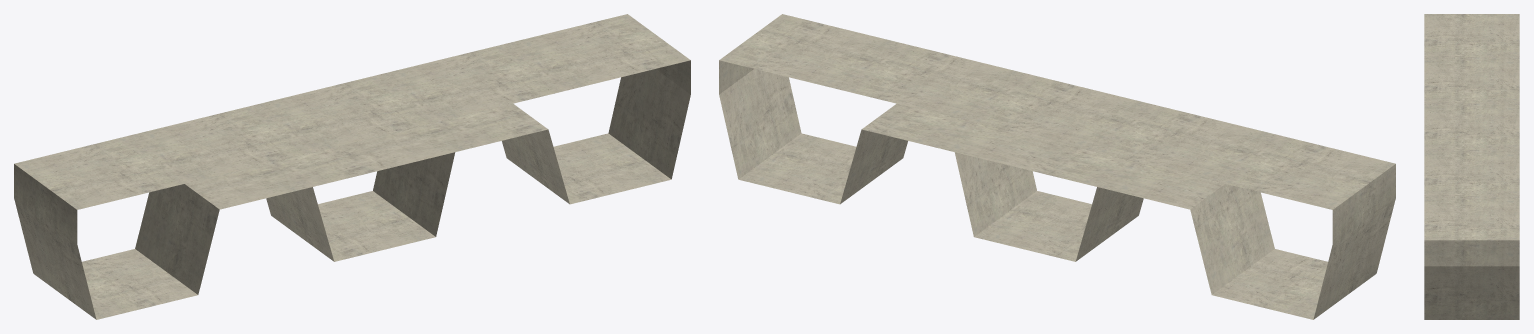
Rendered from BridgeBase3-28w-5l-5d.FBX.
3 views of the same model, side by side, from view 1: azimuth 30°, elevation 25°; view 2: azimuth 150°, elevation 25°; view 3: azimuth 270°, elevation 25° (orthographic). The views are drawn at different scales.
Visible parts, largest first — view 1: BridgeBase3-28w-5l-5d; view 2: BridgeBase3-28w-5l-5d; view 3: BridgeBase3-28w-5l-5d.
Boxes of the visible parts, box(x1,y1,x2,y2) form: BridgeBase3-28w-5l-5d: box(14, 14, 690, 319); BridgeBase3-28w-5l-5d: box(719, 14, 1395, 319); BridgeBase3-28w-5l-5d: box(1424, 14, 1519, 319).
Size of the model in its own units: 28 by 5 by 5.
